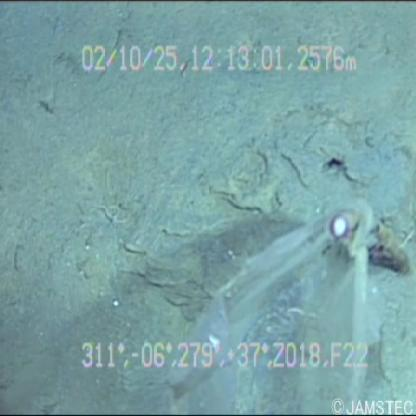Rác: (159, 179, 378, 416)
